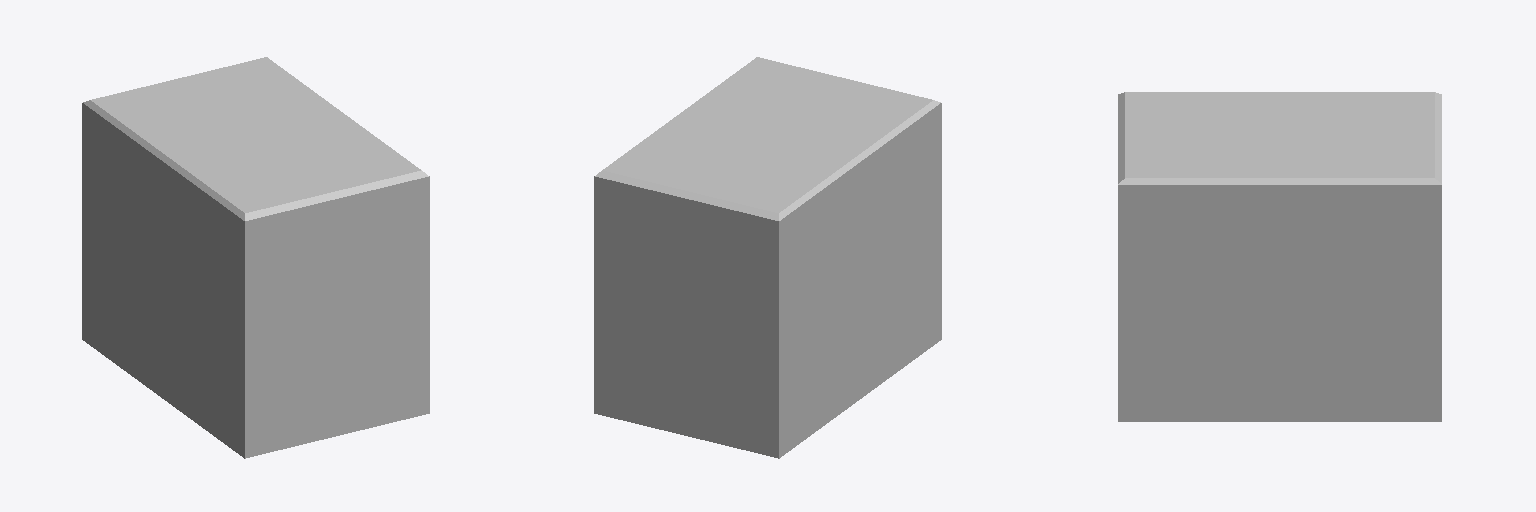
File: Table.obj
The picture shows the model from 3 angles: view 1: azimuth 30°, elevation 25°; view 2: azimuth 150°, elevation 25°; view 3: azimuth 270°, elevation 25°; orthographic projection.
Visible parts, largest first — view 1: Table_Cube.002; view 2: Table_Cube.002; view 3: Table_Cube.002.
Boxes of the visible parts, x1=… form: Table_Cube.002: x1=82, y1=57, x2=429, y2=458; Table_Cube.002: x1=594, y1=57, x2=941, y2=458; Table_Cube.002: x1=1118, y1=92, x2=1441, y2=421.
Bounding box in the file's own units: 2 × 2.5 × 3.04.